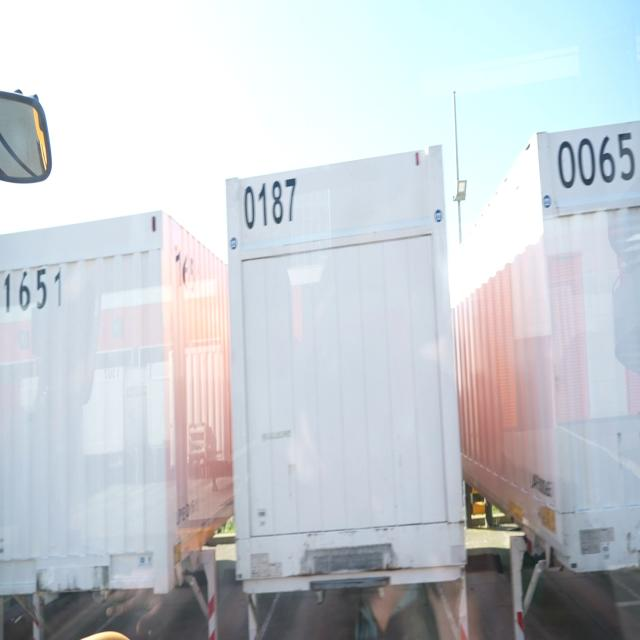Code: (553, 122, 638, 197), (1, 262, 70, 317), (239, 174, 301, 234)
